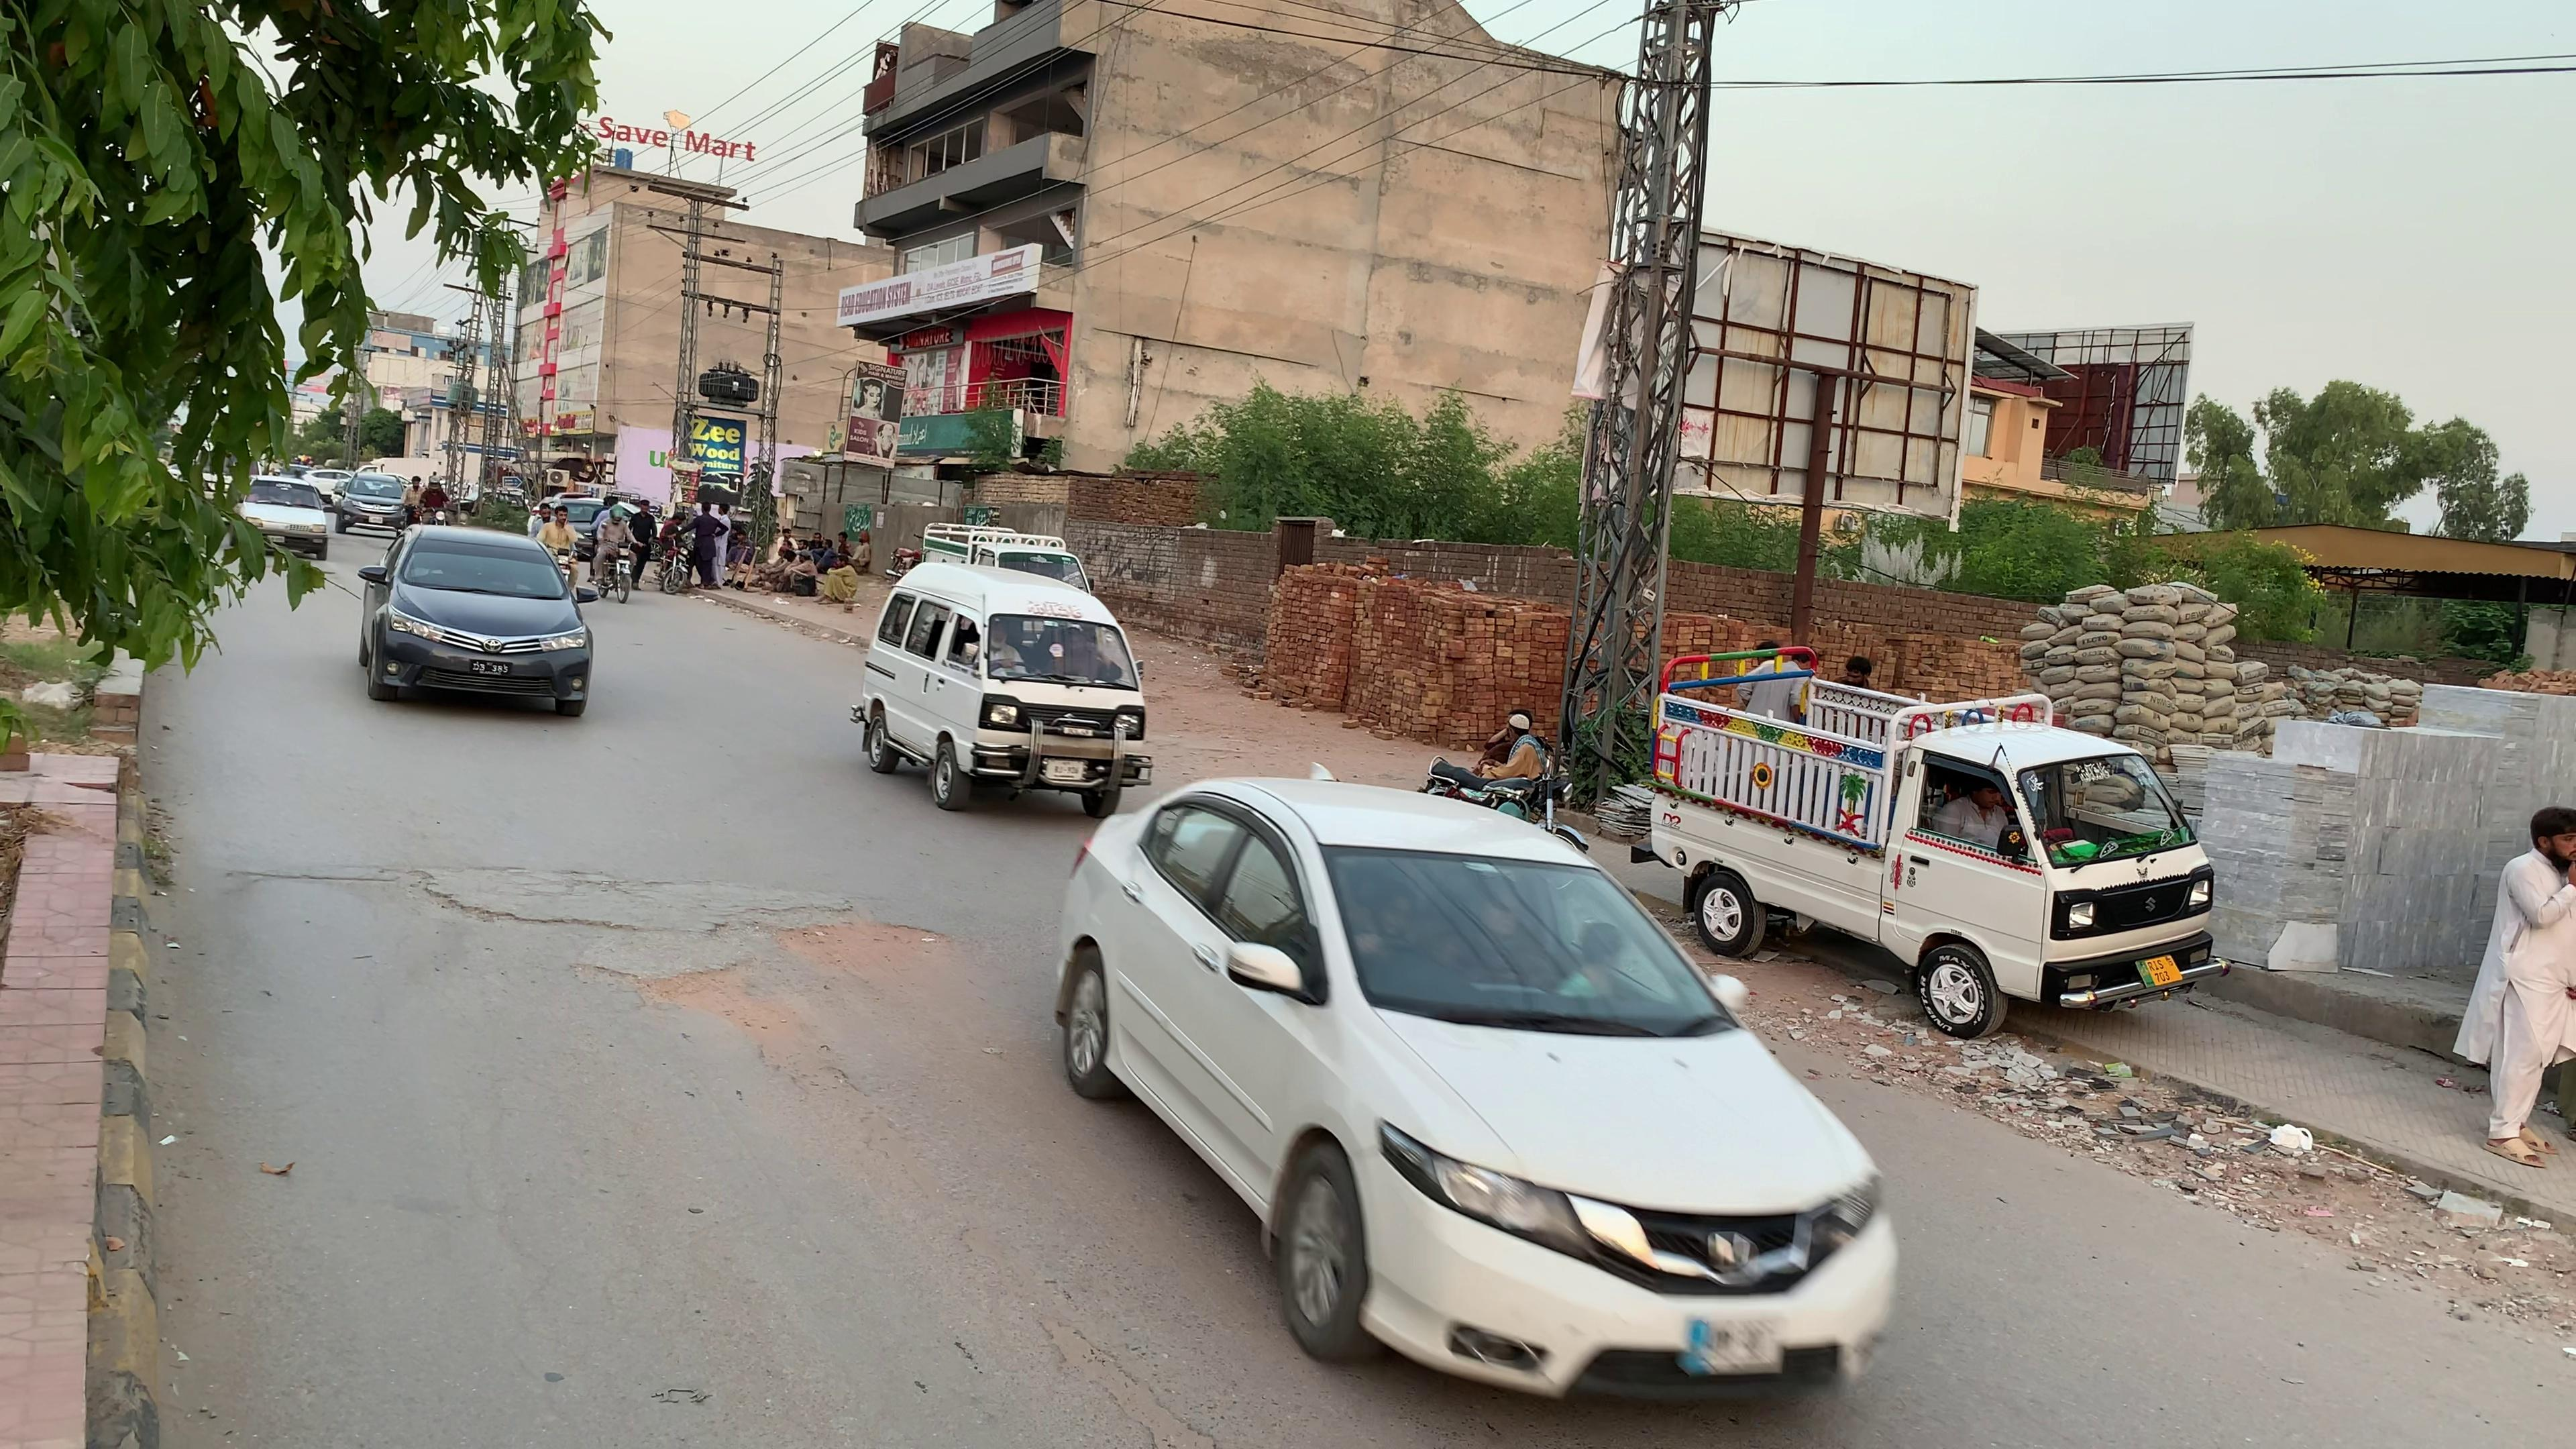windshield: (1318, 842, 1741, 1019), (984, 605, 1139, 690), (389, 534, 577, 603)
